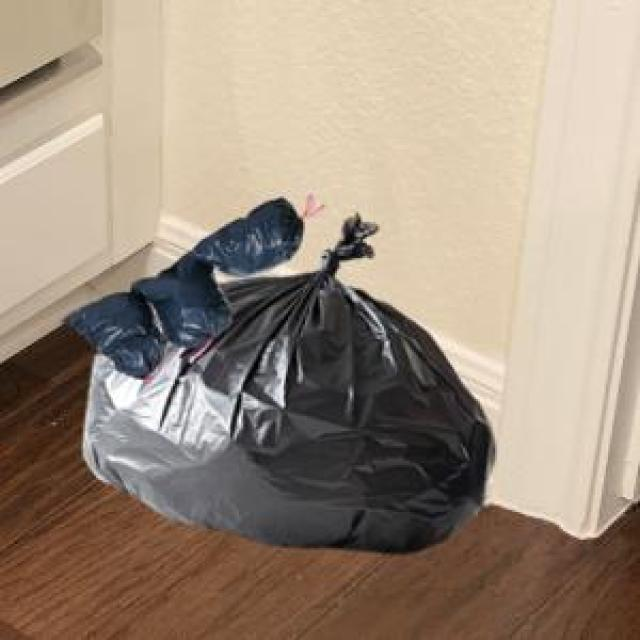Vinyl: (69, 200, 494, 549)
